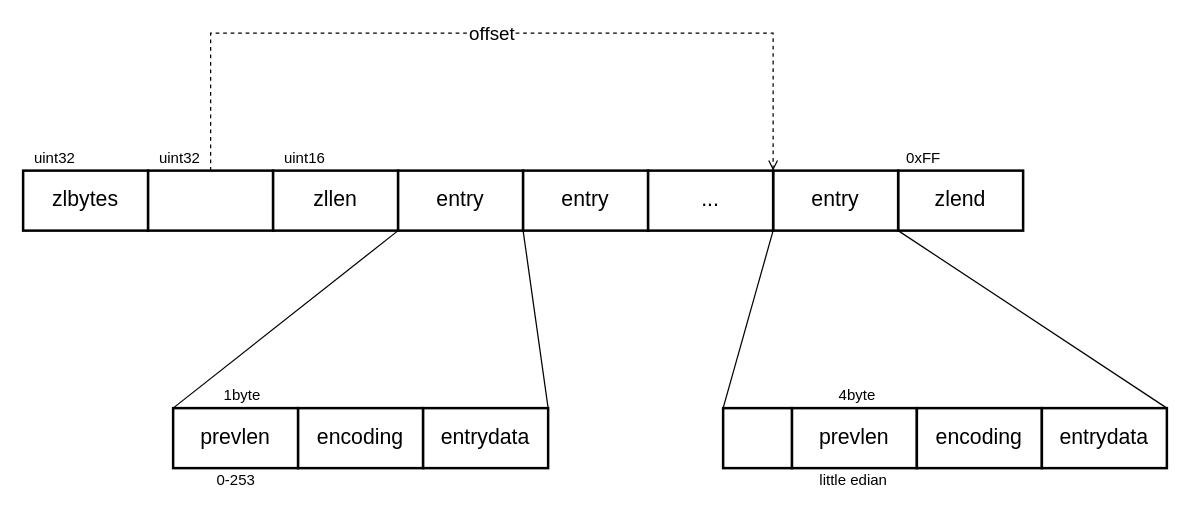
Some shapes in this 1190 by 514 pixel diagram are drawn without their labels. The shapes that lost their labels are listed below. From the top down, each one's centre as x and y in pixels, then its label:
the point at 210,200: zltail
the point at 756,437: 0xFE
